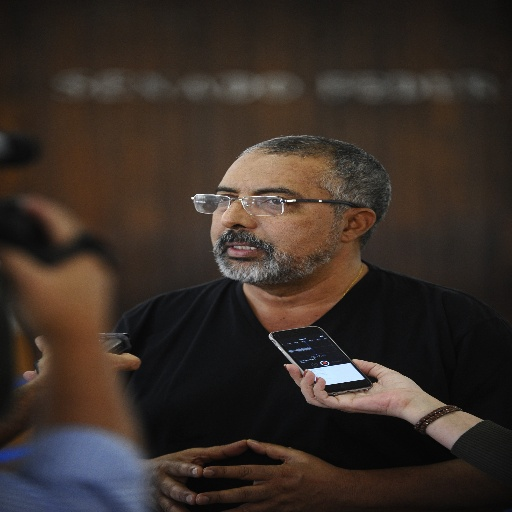hand: (1, 196, 110, 334), (195, 438, 347, 511), (284, 358, 423, 416), (145, 441, 247, 511), (22, 334, 142, 388)
